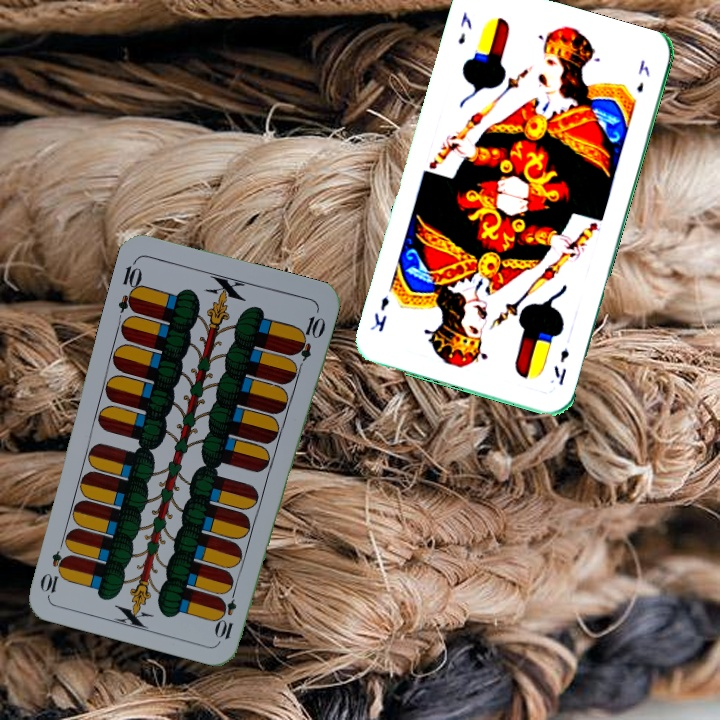E10: (114, 256, 145, 315), (214, 583, 239, 642)
EK: (549, 344, 572, 387), (453, 8, 475, 47)
